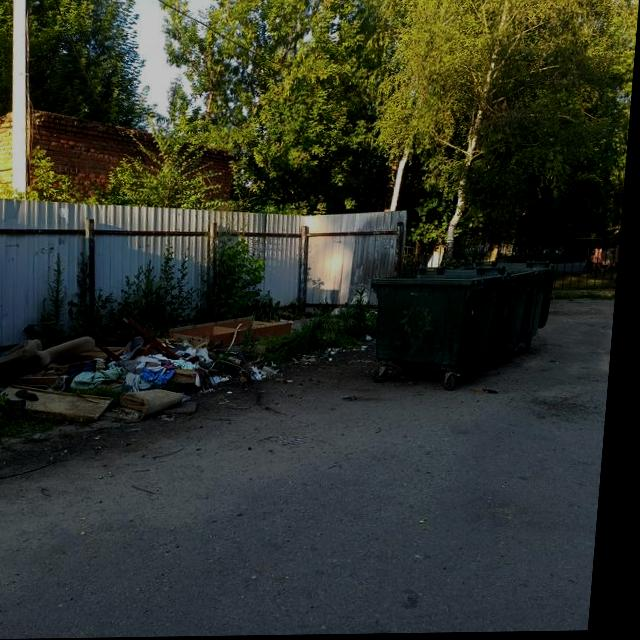Trash_Can_Empty: (370, 274, 509, 372), (436, 271, 537, 356), (512, 268, 553, 341)
